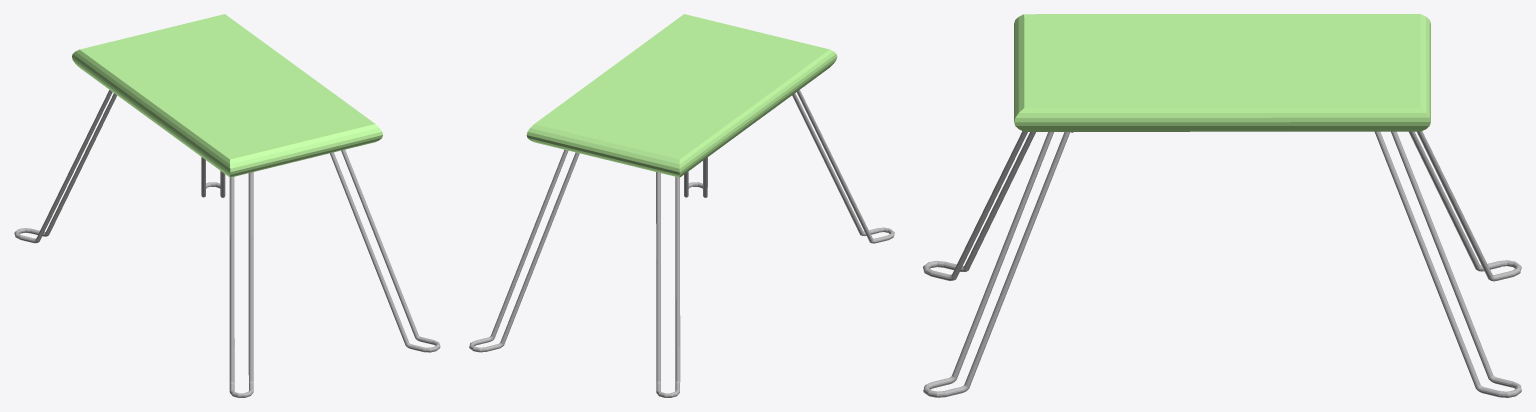
The model's file is Table_small.fbx.
3 renders of one model, left to right at view 1: azimuth 30°, elevation 25°; view 2: azimuth 150°, elevation 25°; view 3: azimuth 270°, elevation 25°, orthographic. The views are drawn at different scales.
Parts seen in each view (by area): view 1: Torus.003; view 2: Torus.003; view 3: Torus.003.
Boxes of the visible parts, bbox=[...] form: Torus.003: bbox=[14, 14, 440, 397]; Torus.003: bbox=[469, 14, 894, 397]; Torus.003: bbox=[923, 14, 1521, 397].
Bounding box in the file's own units: 962 × 909 × 1818.
1 material, 1 textured.
